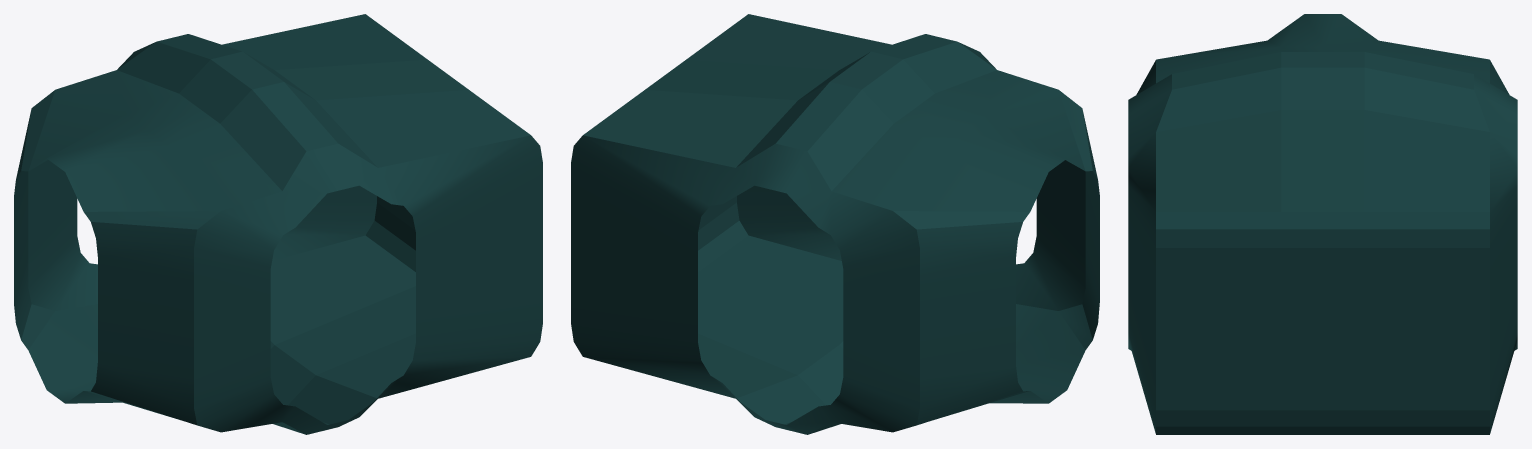
File: OutsideResuplyRoom.fbx
3 renders of one model, left to right at view 1: azimuth 30°, elevation 25°; view 2: azimuth 150°, elevation 25°; view 3: azimuth 270°, elevation 25°, orthographic.
Visible parts, largest first — view 1: OutsideResuplyRoom; view 2: OutsideResuplyRoom; view 3: OutsideResuplyRoom.
Part boxes in pixels (x1,y1,x2,y2): OutsideResuplyRoom: [14, 14, 542, 434]; OutsideResuplyRoom: [571, 14, 1099, 434]; OutsideResuplyRoom: [1128, 14, 1517, 434].
Bounding box in the file's own units: 665 × 551 × 515.
